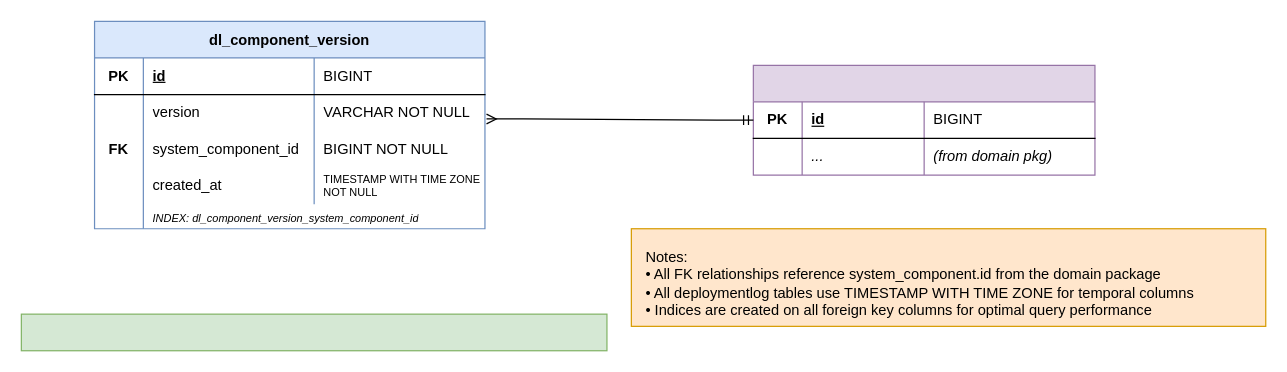
This 1287x372 diagram has some shape labels left out. The shapes that lost their labels are listed below. From the top down, each one's box as (x1, y1, x2, y2) in pixels, then its label:
(752, 64, 1095, 175): system_component
(20, 313, 607, 351): Database Schema: ch.admin.bit.jeap.governance.deploymentlog.domain
